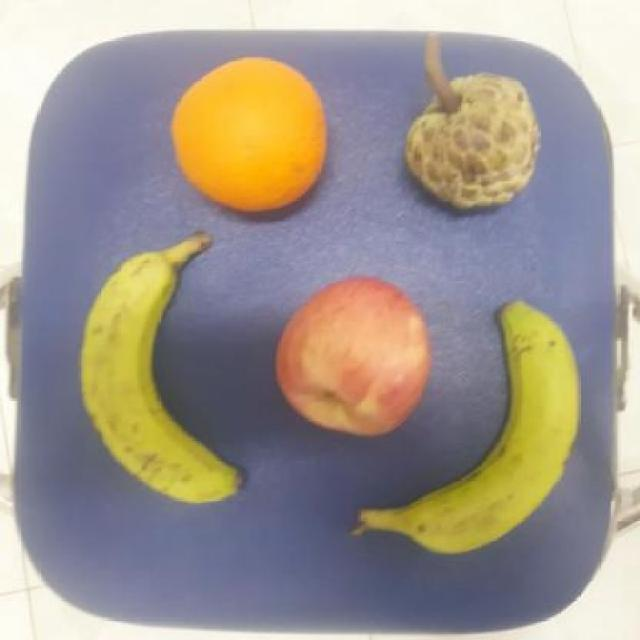apple: (270, 272, 436, 434)
banana: (330, 296, 584, 556), (74, 229, 245, 503)
oren: (164, 52, 331, 216)
sugar apple: (403, 71, 543, 218)
